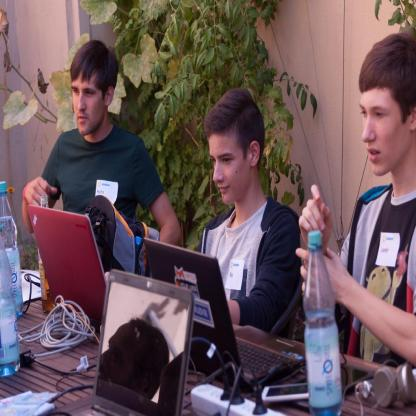board: (145, 235, 303, 390), (44, 268, 194, 416), (28, 206, 107, 332), (303, 232, 343, 416), (0, 227, 21, 377), (0, 180, 23, 315)
